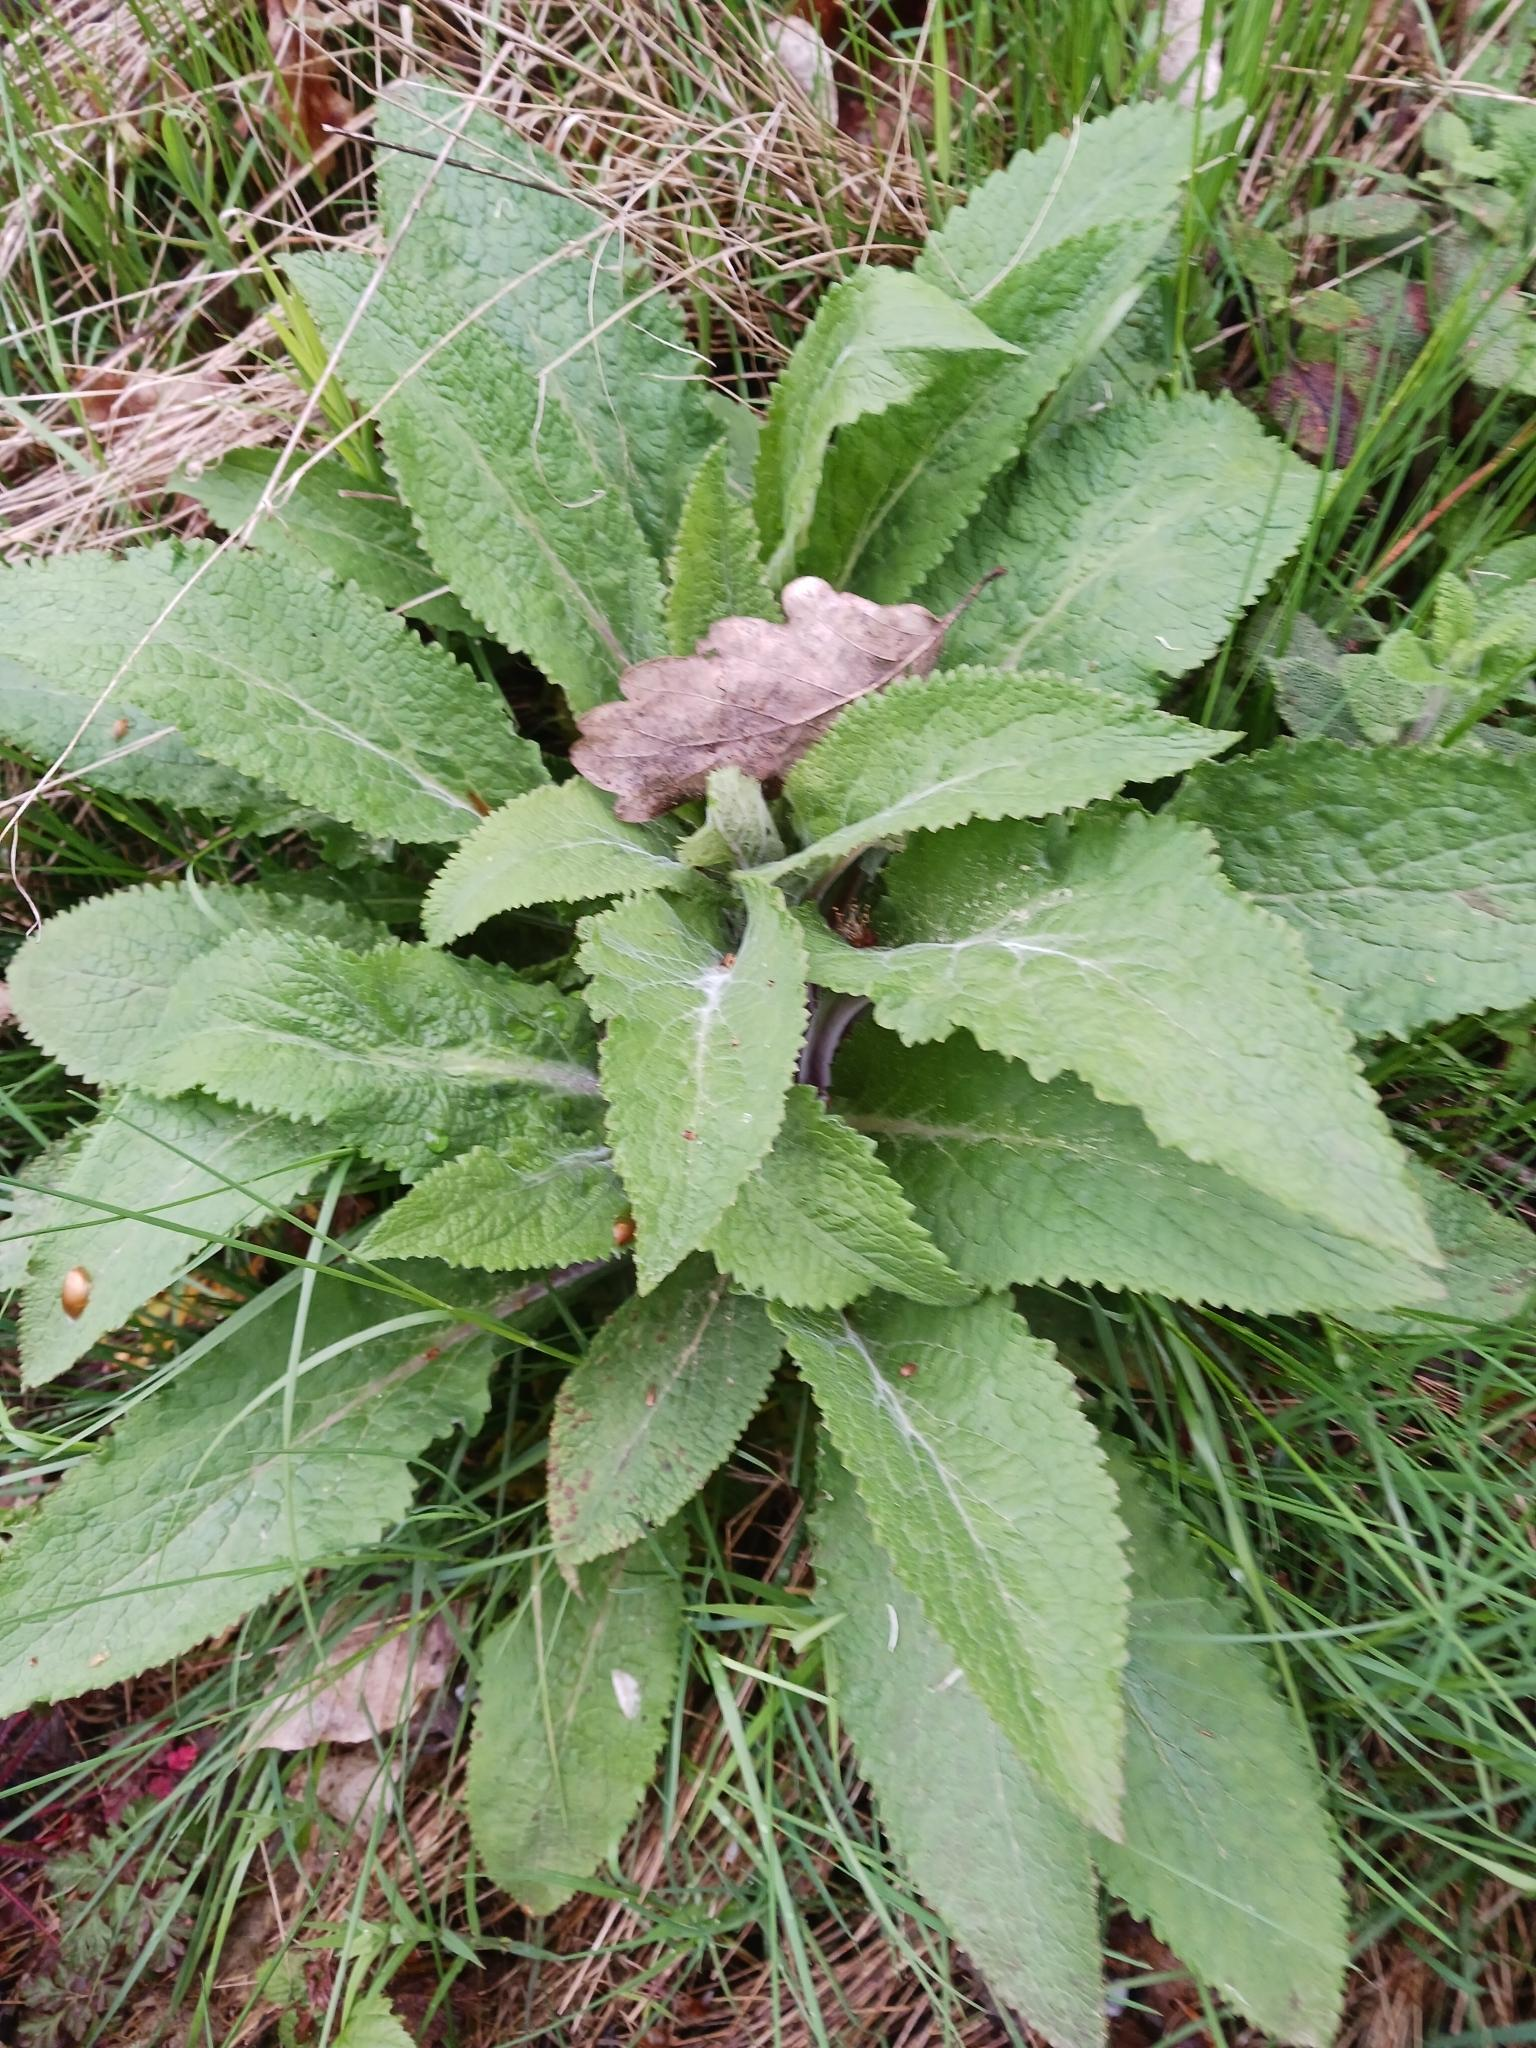Digitalis L: (44, 119, 1441, 1983)
